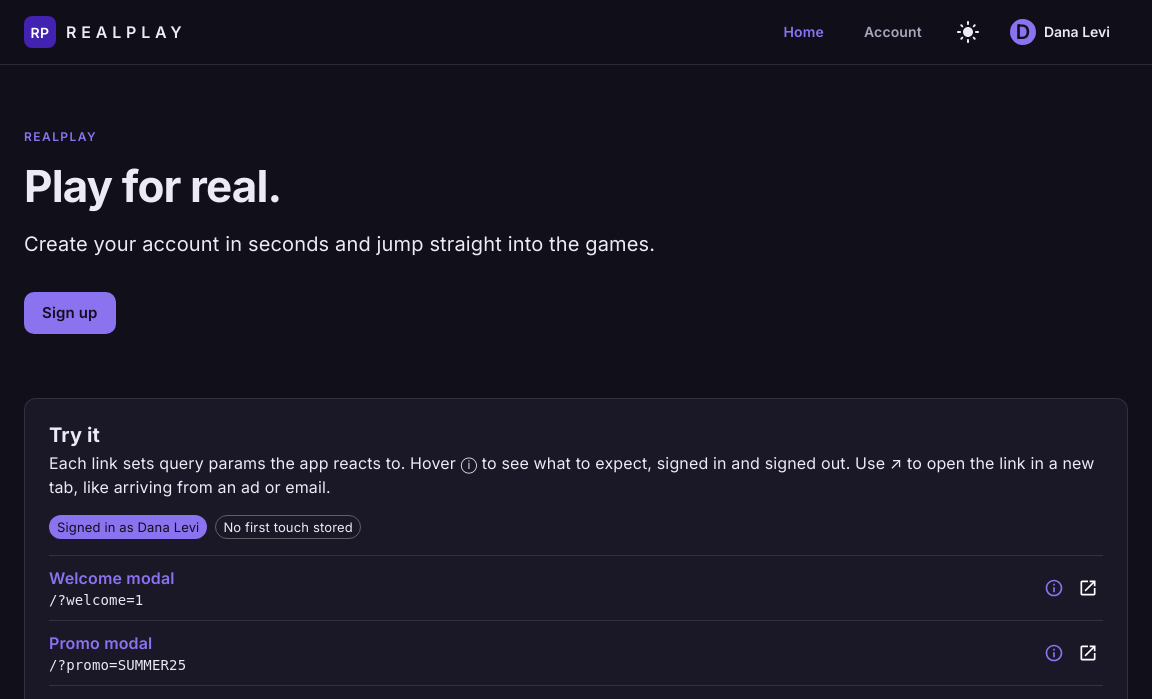
Scenario: modals in the app (signed in) › opens on in-app navigation
What coordinates should you click on to do the following:
click the link "Welcome modal"
I would click on:
 (112, 578)
Its box is [49,568,175,588].
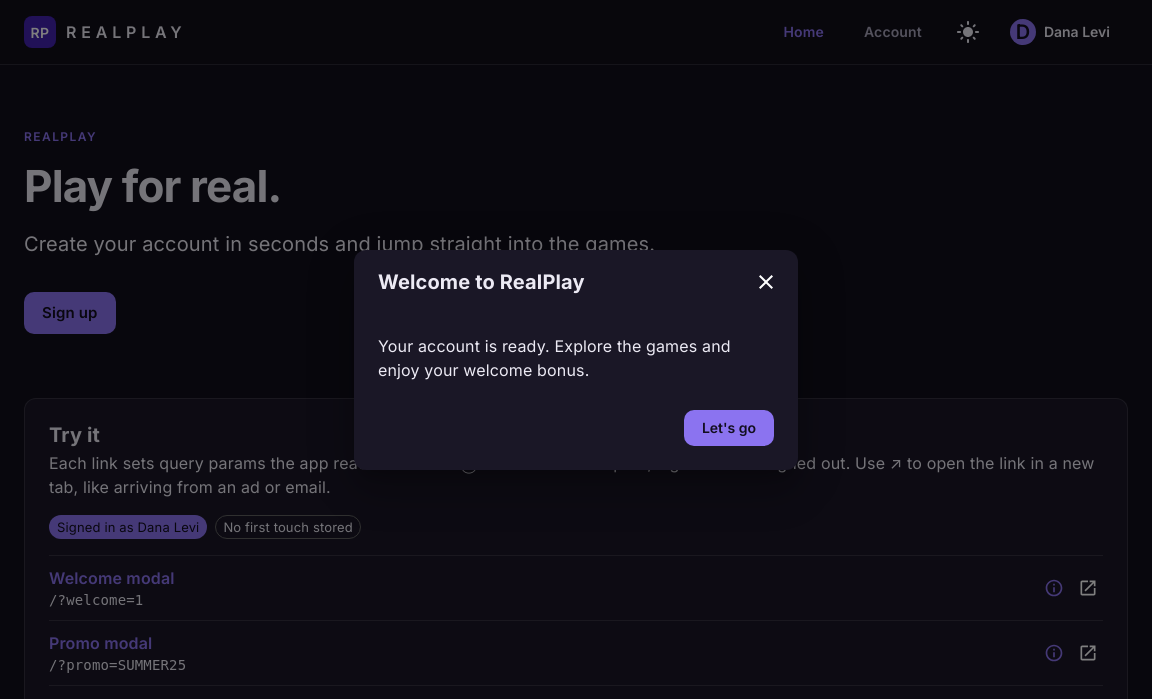
Expected: the dialog "Welcome to RealPlay" is shown, [354,250,798,470]
